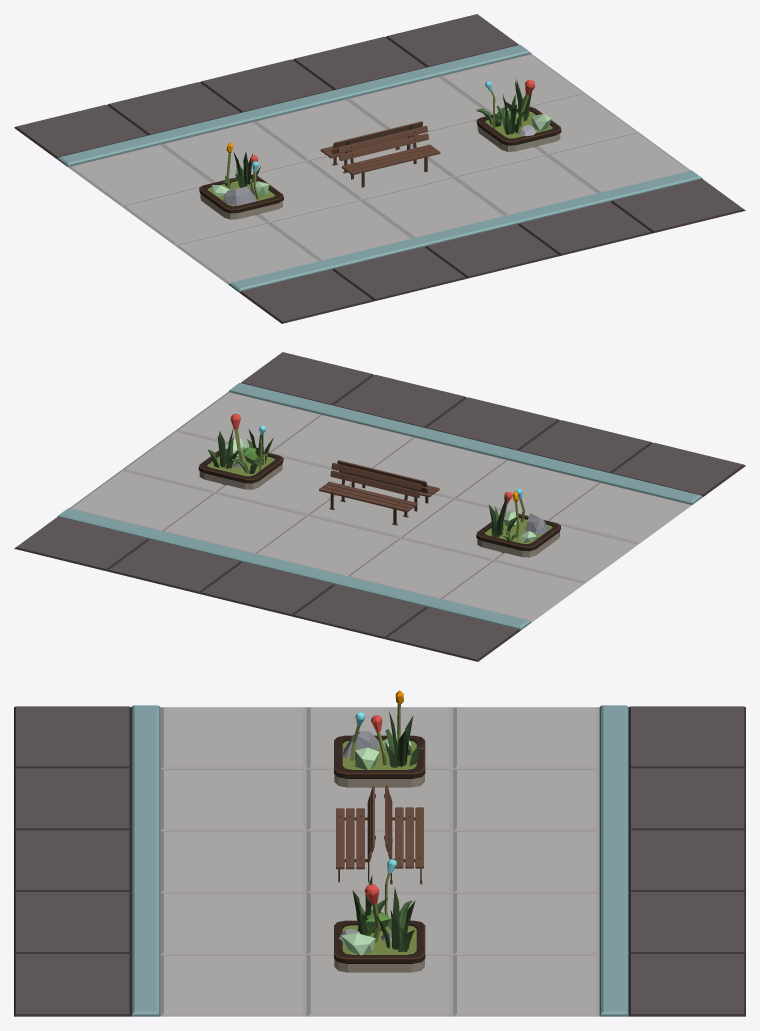
File: Road_A.glb
3 views of the same model, one above another, from view 1: azimuth 30°, elevation 25°; view 2: azimuth 150°, elevation 25°; view 3: azimuth 270°, elevation 25° (orthographic). The views are drawn at different scales.
Visible parts, largest first — view 1: Road_A, Bench_01.003, Cube.275, Cube.274, Bench_01.002; view 2: Road_A, Bench_01.002, Cube.274, Cube.275, Bench_01.003, Grass_03.634; view 3: Road_A, Cube.274, Cube.275, Bench_01.003, Bench_01.002, Grass_03.634, Grass_03.635, Tree_03.1507, Grass_03.633.
Part boxes in pixels (bbox=[...]): Road_A: bbox=[14, 14, 745, 323]; Bench_01.003: bbox=[338, 126, 440, 187]; Cube.275: bbox=[199, 174, 283, 219]; Cube.274: bbox=[476, 106, 561, 151]; Bench_01.002: bbox=[320, 121, 422, 173]; Road_A: bbox=[14, 352, 745, 661]; Bench_01.002: bbox=[319, 463, 421, 525]; Cube.274: bbox=[198, 447, 283, 489]; Cube.275: bbox=[476, 514, 560, 557]; Bench_01.003: bbox=[337, 460, 439, 511]; Grass_03.634: bbox=[207, 428, 238, 468]; Road_A: bbox=[14, 705, 745, 1016]; Cube.274: bbox=[334, 920, 425, 972]; Cube.275: bbox=[334, 735, 425, 787]; Bench_01.003: bbox=[336, 786, 375, 882]; Bench_01.002: bbox=[384, 785, 423, 884]; Grass_03.634: bbox=[376, 887, 415, 951]; Grass_03.635: bbox=[384, 711, 424, 767]; Tree_03.1507: bbox=[341, 933, 375, 955]; Grass_03.633: bbox=[352, 875, 387, 935].
Size of what is drawn, in the model's own units: 16 by 1.94 by 16.
2 materials, 2 textured.
